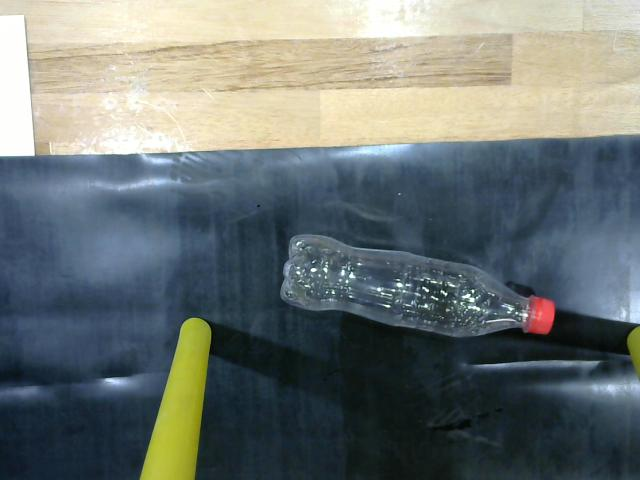bottle: (276, 229, 571, 349)
